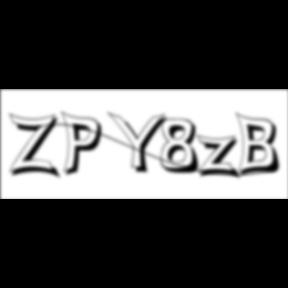8: (160, 117, 206, 176)
B: (236, 111, 286, 179)
P: (62, 110, 108, 180)
Y: (106, 110, 174, 176)
Z: (9, 112, 64, 181)
z: (197, 134, 246, 182)
